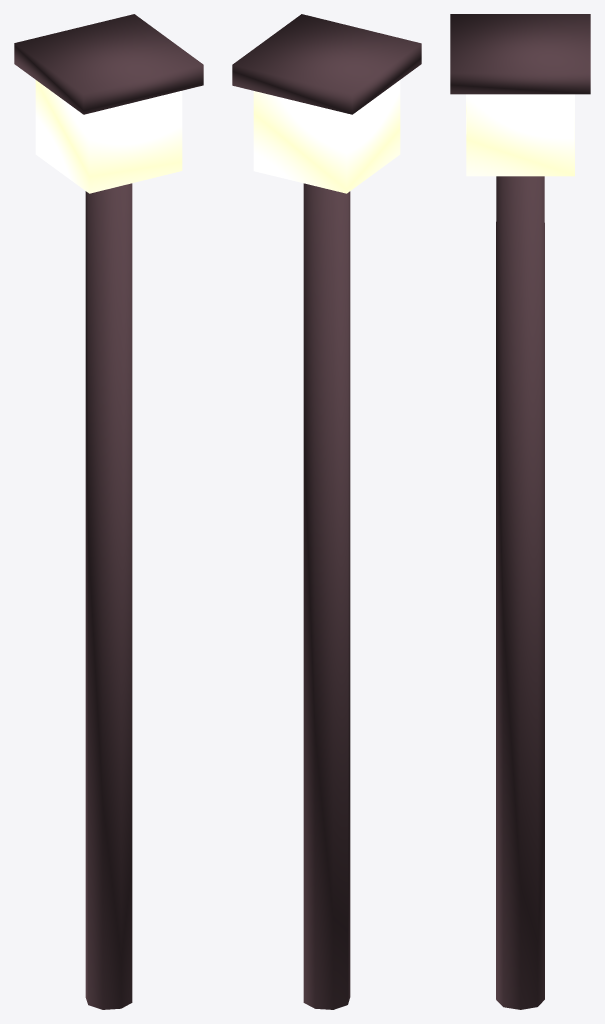
File: SM_Schlachthof_Lamp_LOD3.fbx
3 renders of one model, left to right at view 1: azimuth 30°, elevation 25°; view 2: azimuth 150°, elevation 25°; view 3: azimuth 270°, elevation 25°, orthographic.
Parts seen in each view (by area): view 1: SM_Schlachthof_Lamp_LOD3; view 2: SM_Schlachthof_Lamp_LOD3; view 3: SM_Schlachthof_Lamp_LOD3.
Part boxes in pixels (x1,y1,x2,y2): SM_Schlachthof_Lamp_LOD3: (14, 14, 203, 1009); SM_Schlachthof_Lamp_LOD3: (232, 14, 421, 1009); SM_Schlachthof_Lamp_LOD3: (450, 14, 590, 1009).
Size of the model in its own units: 0.4436 by 3.33 by 0.4434.
